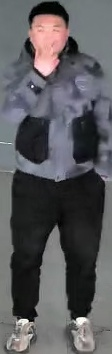smoking: (6, 2, 94, 116)
